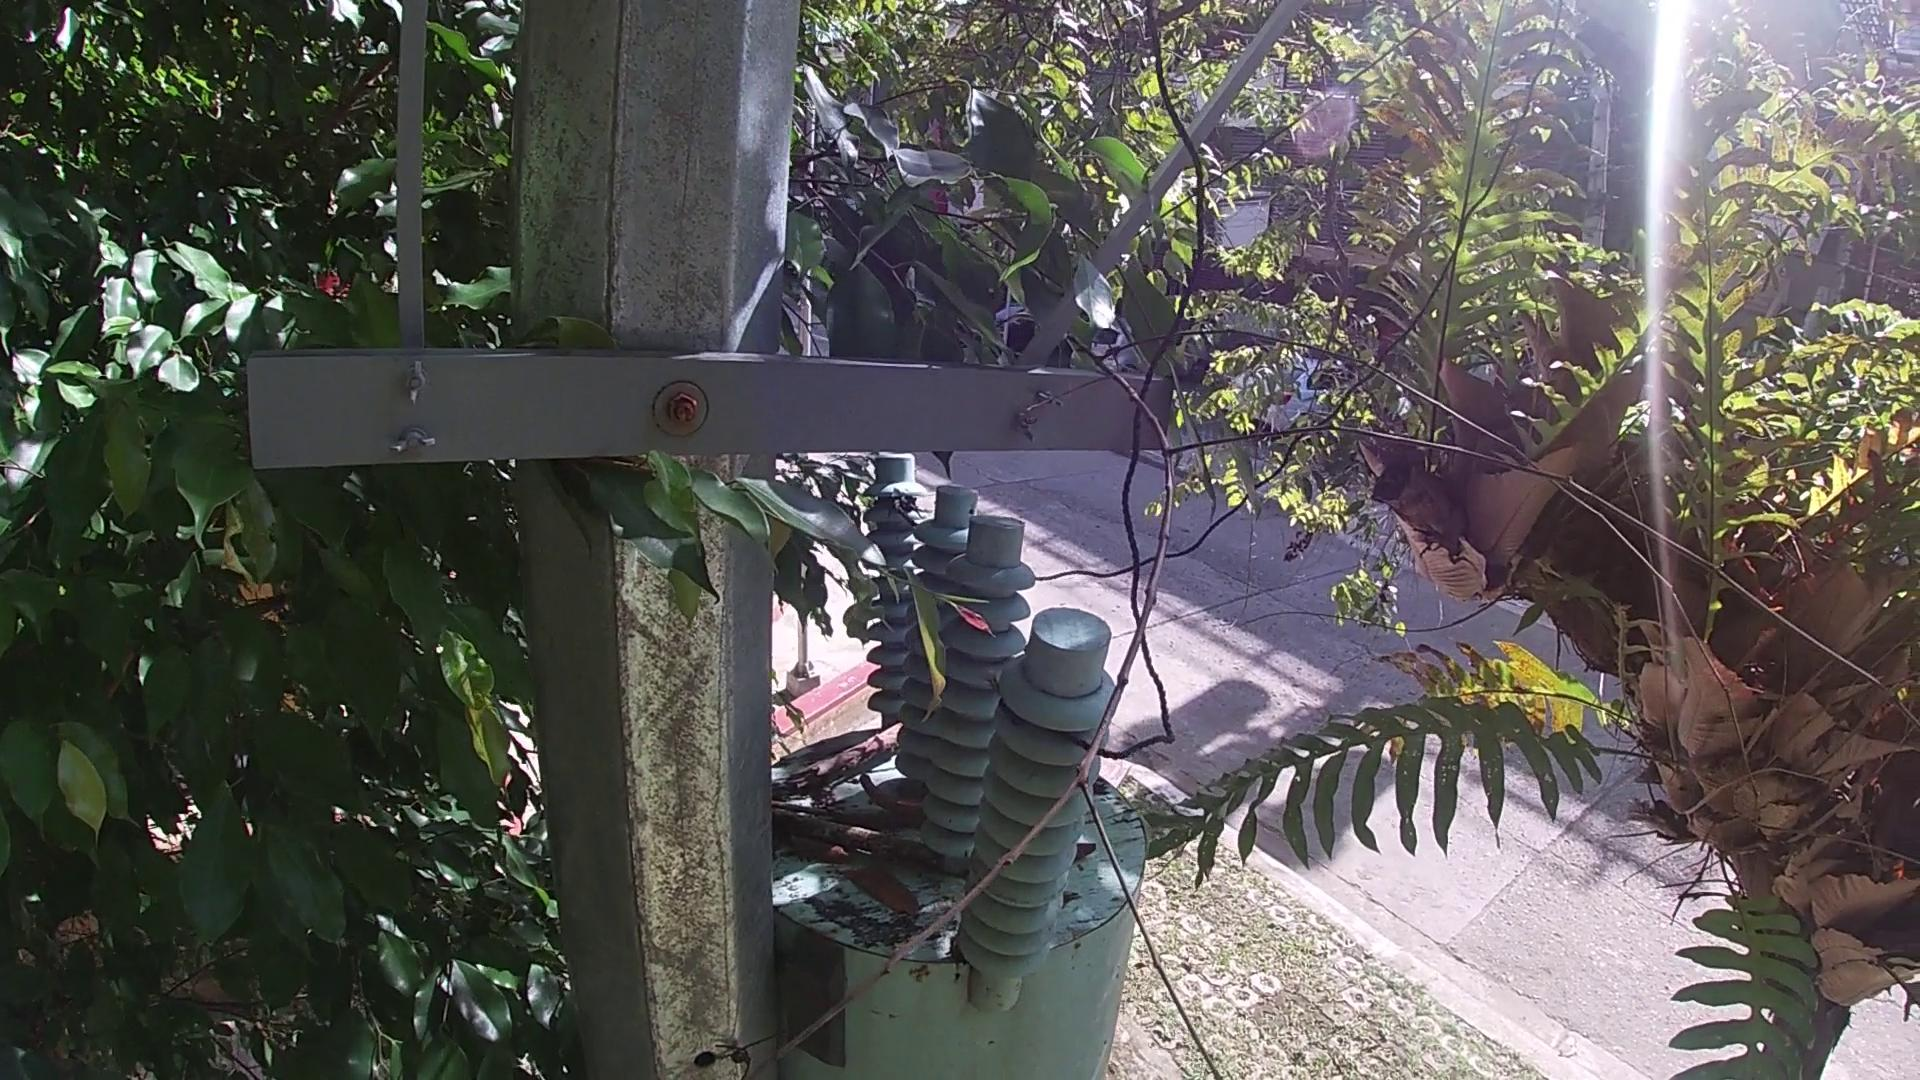leaf: (835, 866, 927, 920), (785, 831, 853, 864), (1071, 841, 1098, 862)
tree branch: (738, 328, 1920, 1077), (771, 803, 972, 878), (791, 723, 902, 798)
